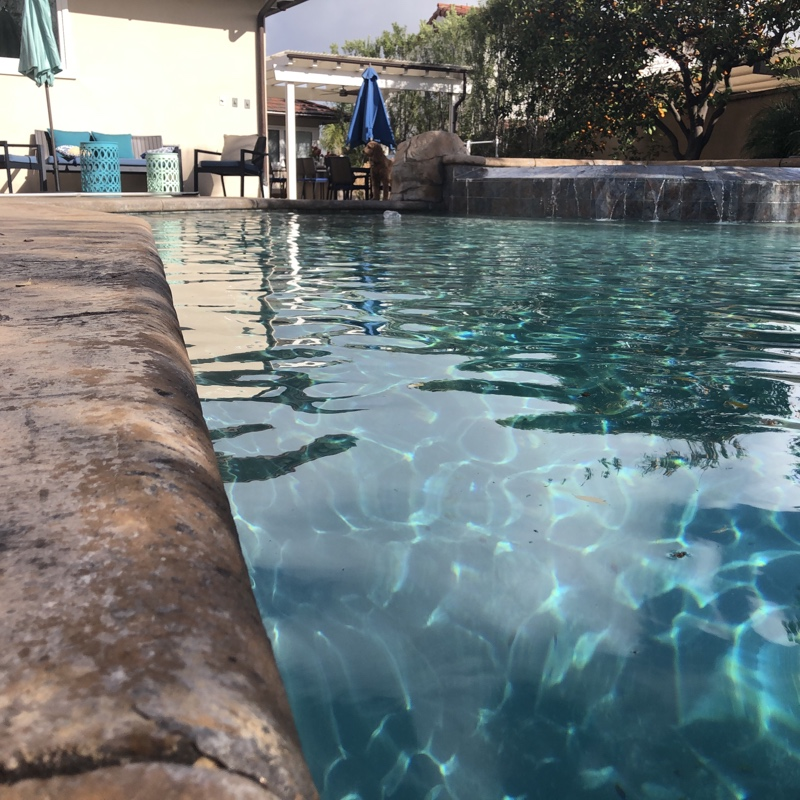Plastic Bottle: (383, 208, 404, 226)
